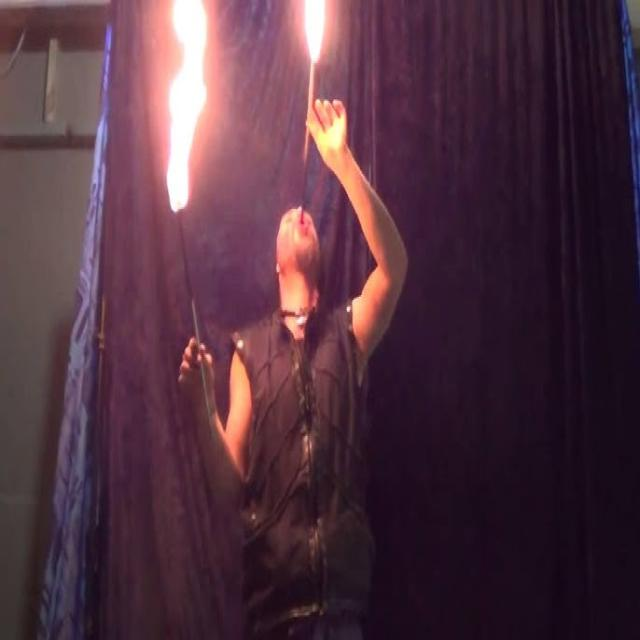fire: (167, 0, 206, 211)
